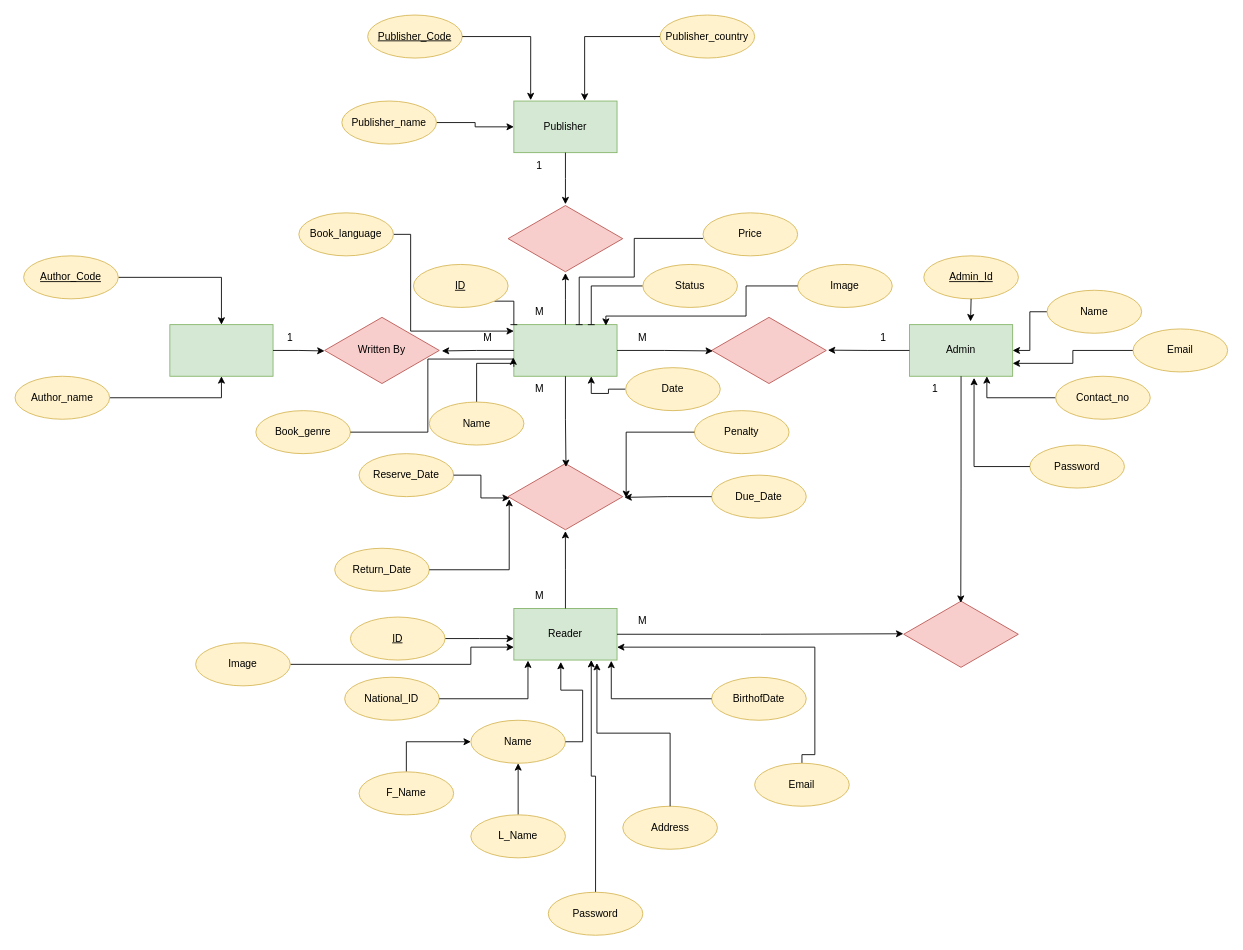
This 1243x950 diagram has some shape labels left out. Each missing label, with the centre of its shape:
"Author" goes at point (221, 350).
"Book" goes at point (565, 350).
"borrow" goes at point (565, 496).
"Keep track of" goes at point (960, 634).
"Manage" goes at point (768, 350).
"Publish" goes at point (565, 238).
